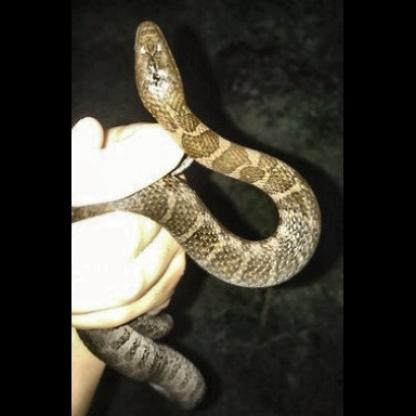Snake: (66, 13, 338, 413)
